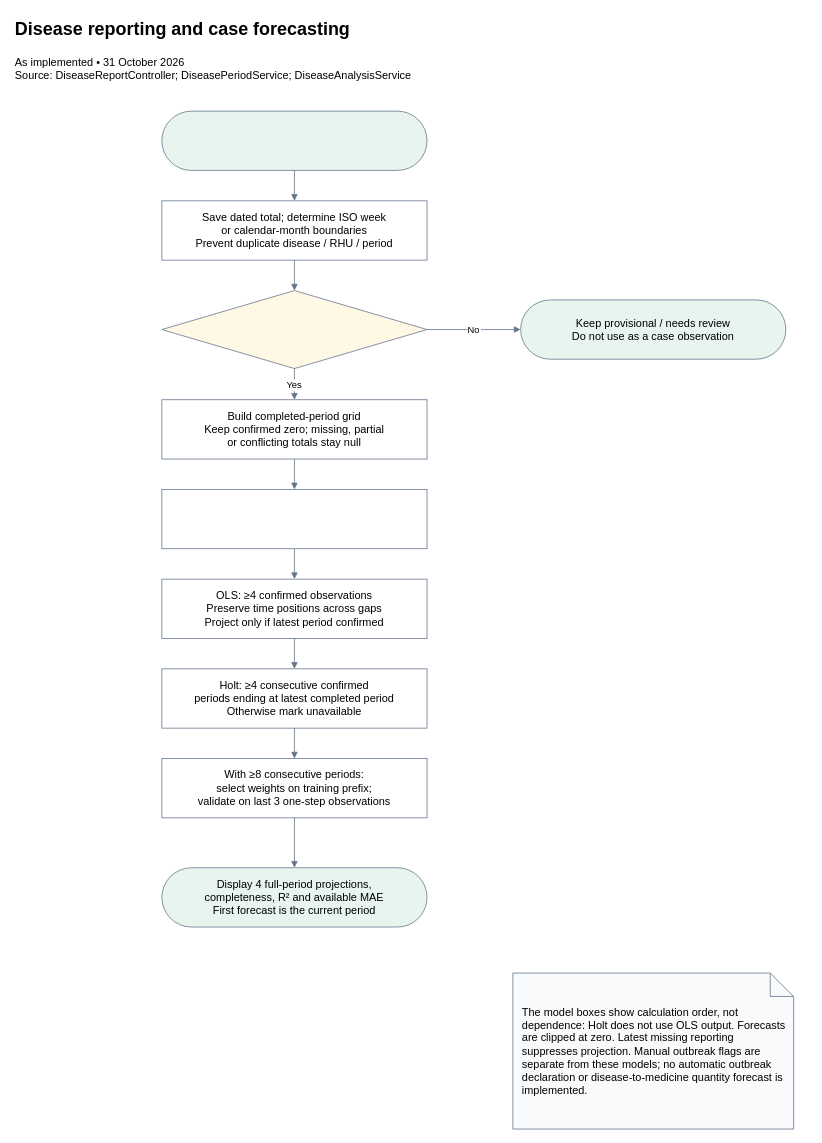
The diagram is 822 pixels wide and 1143 high, and some of its shapes have lost their labels. Each missing label, with the centre of its shape:
"Evaluate two models independently" belongs at (x=294, y=519).
"Period ended and user confirms complete total?" belongs at (x=294, y=329).
"Start: RHU user selects disease and weekly or monthly reporting" belongs at (x=294, y=140).
